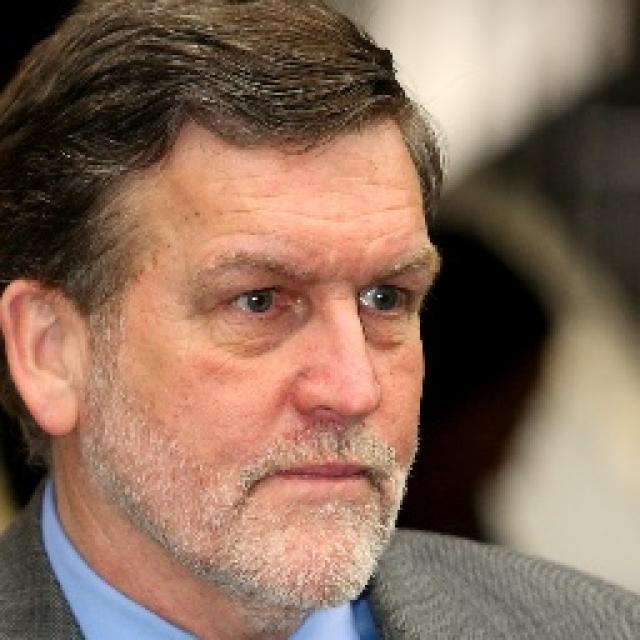earlobe: (17, 364, 82, 436)
eye: (218, 284, 290, 319), (359, 285, 412, 318)
nose: (298, 404, 376, 454)
wholeear: (0, 277, 80, 435)
